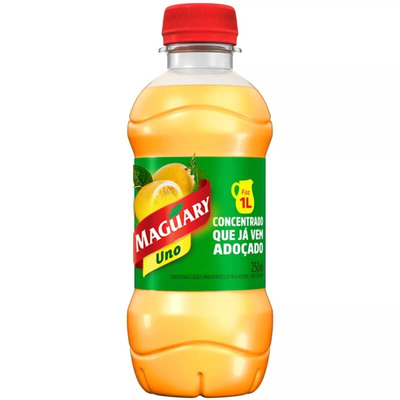maguary: (109, 1, 283, 400)
